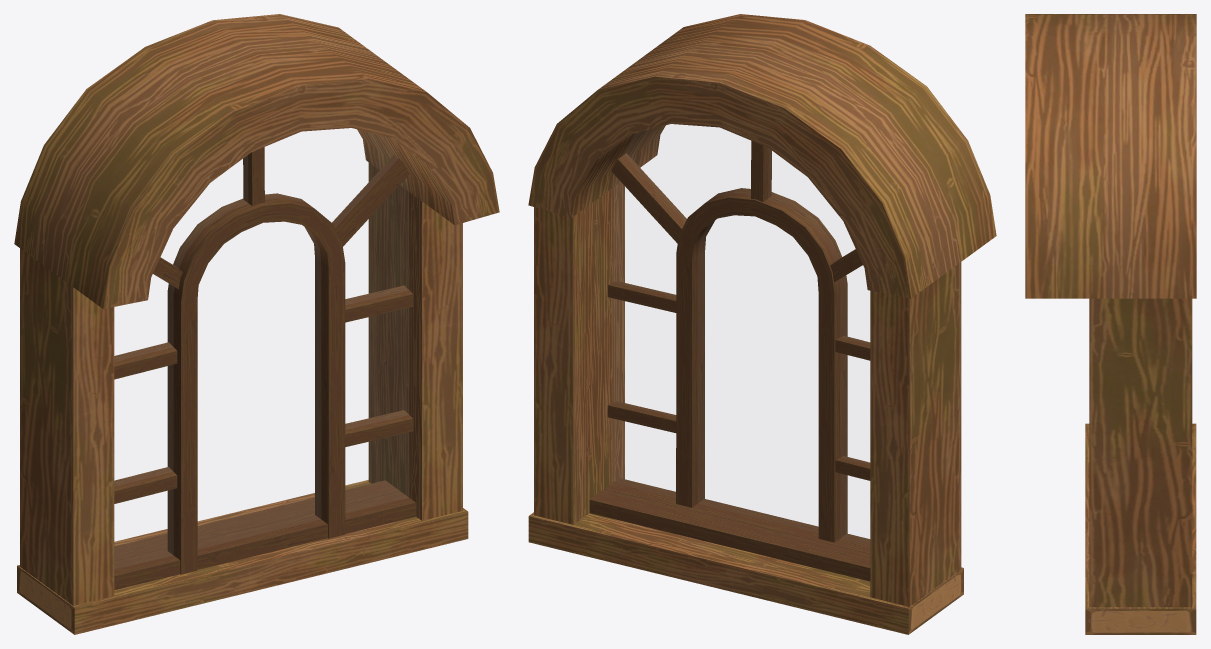
Rendered from Window_Wide_Round1.glb.
3 views of the same model, side by side, from view 1: azimuth 30°, elevation 25°; view 2: azimuth 150°, elevation 25°; view 3: azimuth 270°, elevation 25° (orthographic). The views are drawn at different scales.
Visible parts, largest first — view 1: Window_Wide_Round1; view 2: Window_Wide_Round1; view 3: Window_Wide_Round1.
Part boxes in pixels (x1=…): Window_Wide_Round1: x1=14, y1=14, x2=499, y2=634; Window_Wide_Round1: x1=528, y1=14, x2=996, y2=634; Window_Wide_Round1: x1=1025, y1=14, x2=1196, y2=634.
Size of the model in its own units: 1.36 by 1.73 by 0.5297.
Materials: 2 (1 with a texture image).
